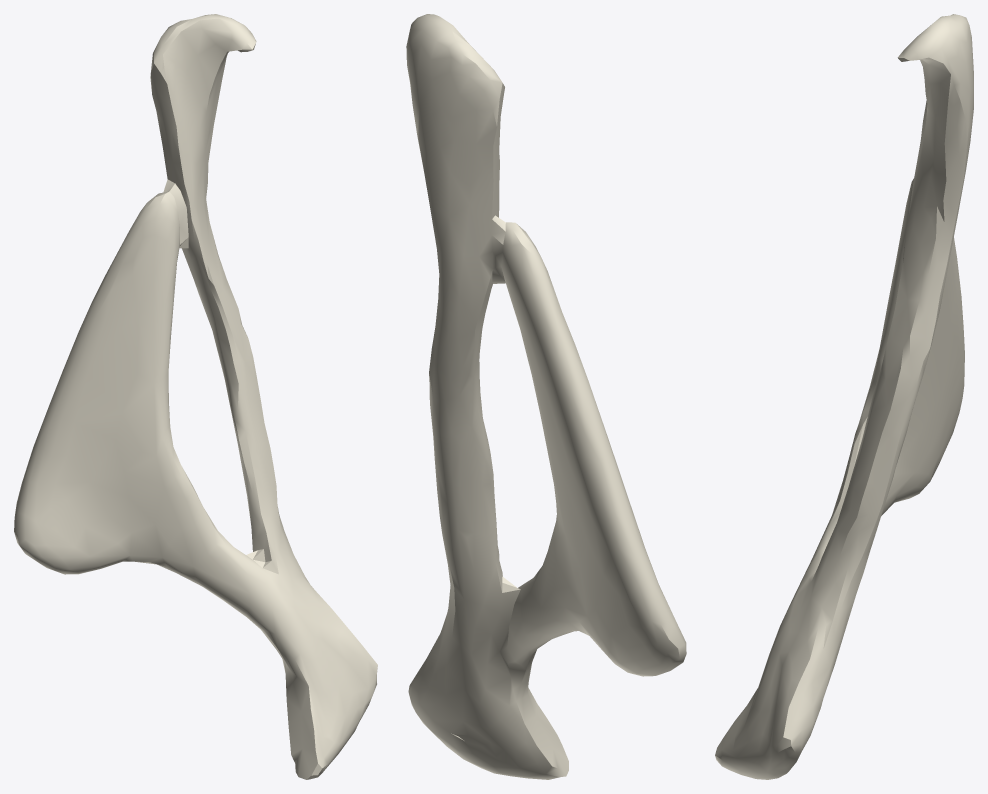
The model's file is fma21484_mm1642.glb.
3 views of the same model, side by side, from view 1: azimuth 30°, elevation 25°; view 2: azimuth 150°, elevation 25°; view 3: azimuth 270°, elevation 25° (orthographic). The views are drawn at different scales.
Parts seen in each view (by area): view 1: FMA21484_MM1642; view 2: FMA21484_MM1642; view 3: FMA21484_MM1642.
Part boxes in pixels (x1=…): FMA21484_MM1642: x1=14, y1=14, x2=377, y2=779; FMA21484_MM1642: x1=406, y1=14, x2=686, y2=779; FMA21484_MM1642: x1=715, y1=14, x2=973, y2=779.
Size of the model in its own units: 0.0669 by 0.1509 by 0.0475.
